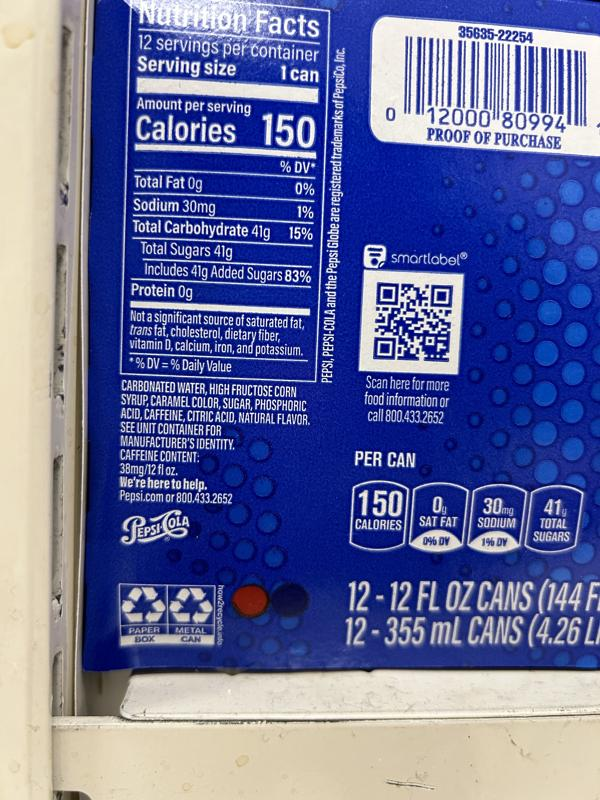ingredients: (115, 380, 315, 426)
